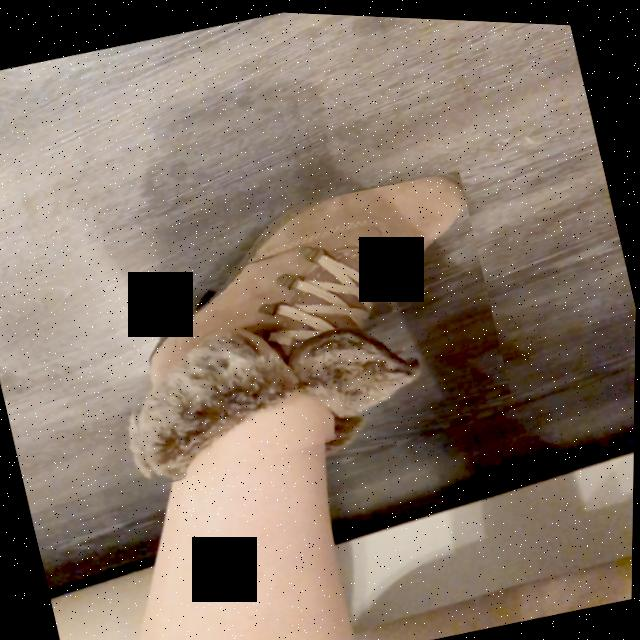shoe: (137, 170, 467, 480)
